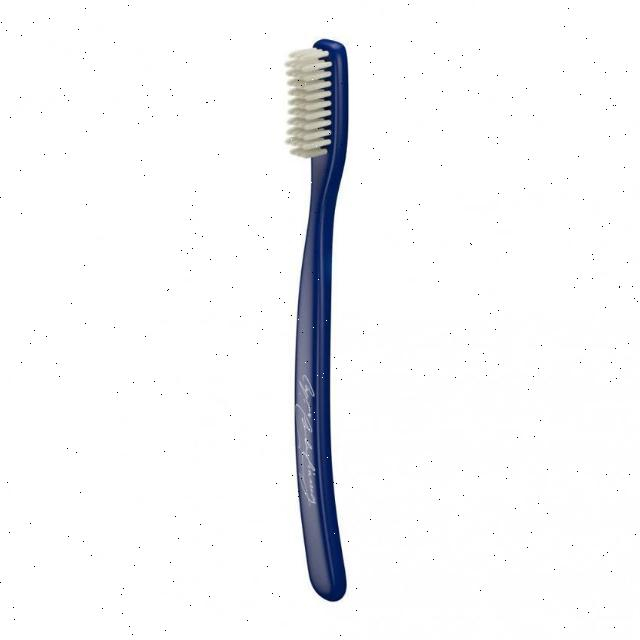toothbrush: (250, 24, 400, 620)
